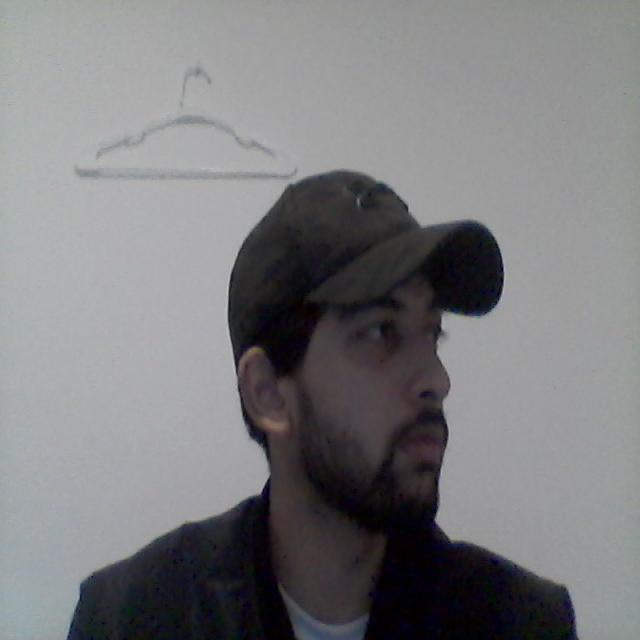cap: (196, 145, 526, 388)
